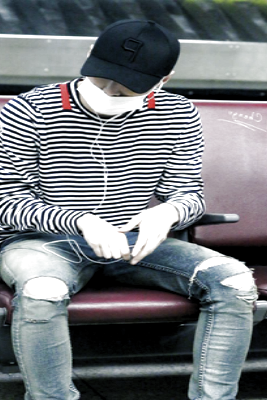mask_weared_incorrect: (74, 77, 155, 117)
